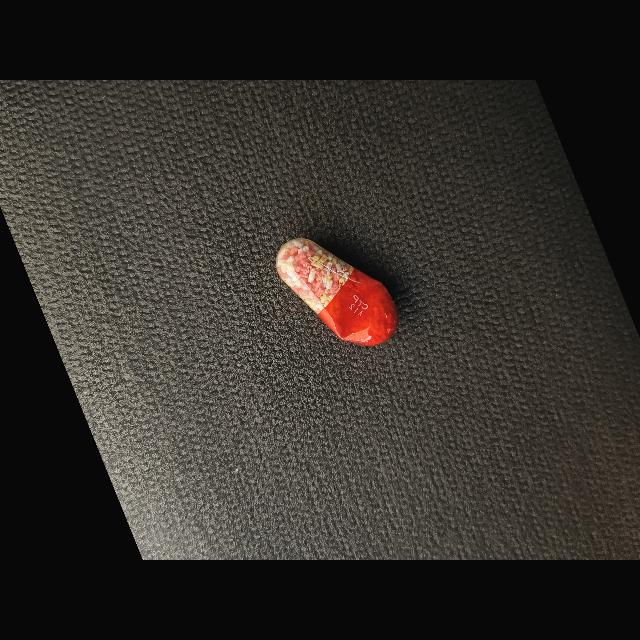Defective Capsule: (276, 238, 398, 346)
